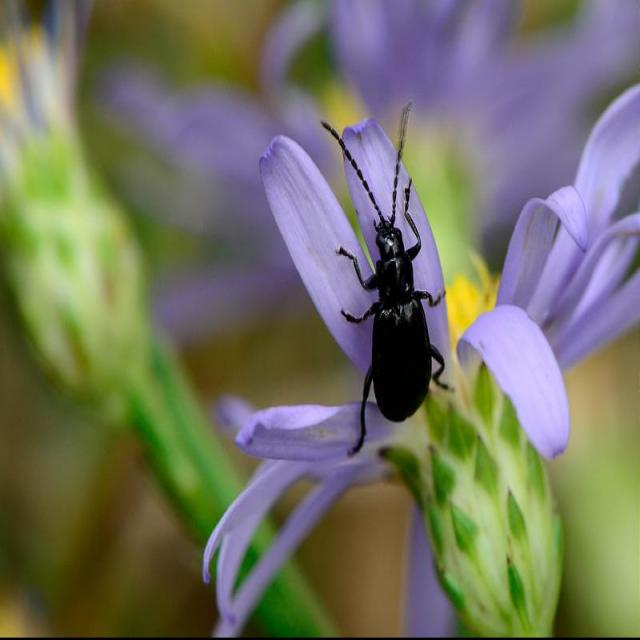BlisterBeetle-Adult-: (321, 100, 457, 462)
